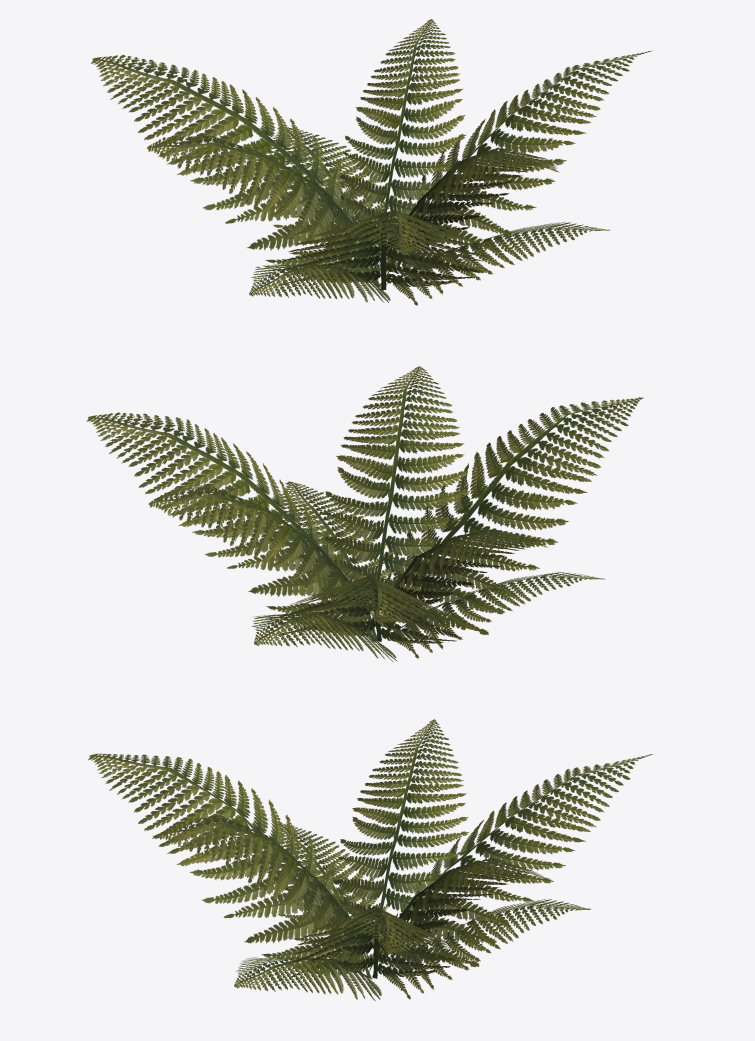
The model's file is m_grass_plant_01.glb.
3 renders of one model, top to bottom at view 1: azimuth 30°, elevation 25°; view 2: azimuth 150°, elevation 25°; view 3: azimuth 270°, elevation 25°, orthographic. The views are drawn at different scales.
Visible parts, largest first — view 1: Picsart_24-11-03_17-17-16-746.001; view 2: Picsart_24-11-03_17-17-16-746.001; view 3: Picsart_24-11-03_17-17-16-746.001.
Part boxes in pixels (x1,y1,x2,y2): Picsart_24-11-03_17-17-16-746.001: (91,19,652,305); Picsart_24-11-03_17-17-16-746.001: (86,366,643,661); Picsart_24-11-03_17-17-16-746.001: (88,719,653,1000).
Size of the model in its own units: 0.8392 by 0.2682 by 0.9673.
1 material, 1 textured.
